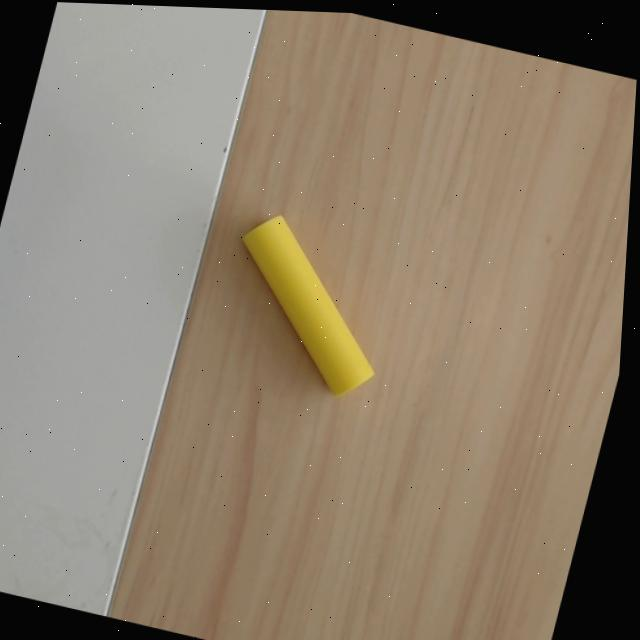Silinder-Kuning-10025: (239, 212, 375, 399)
